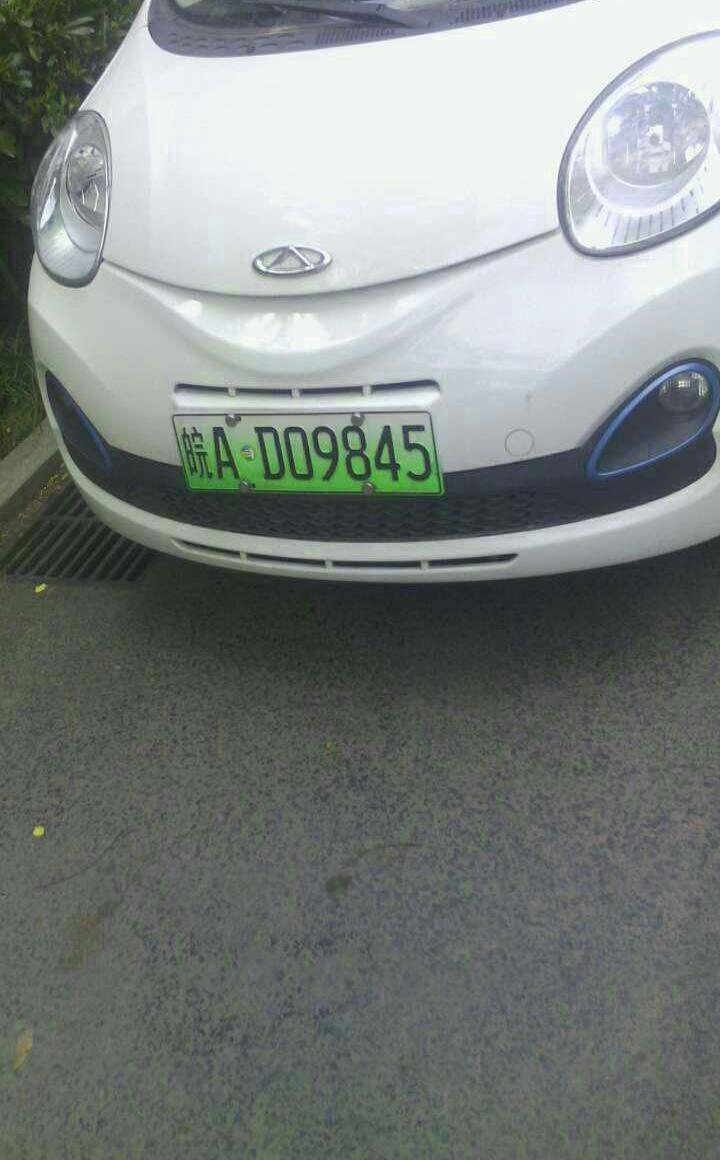car_id: (171, 411, 441, 491)
